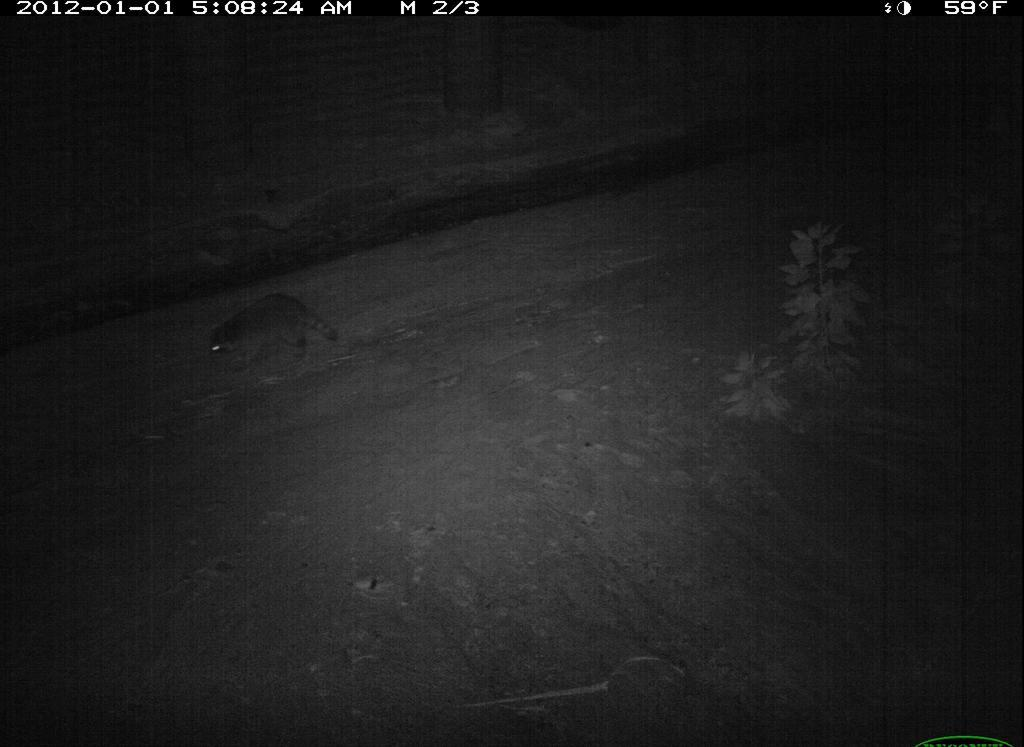raccoon: (196, 286, 349, 382)
